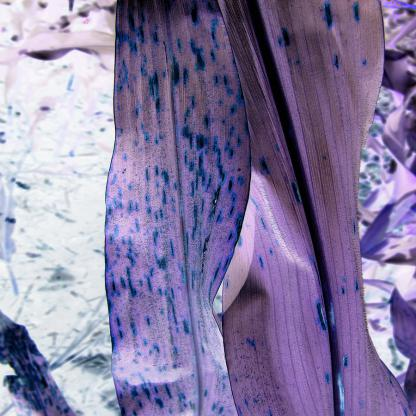corn leaf blight: (237, 5, 380, 415), (108, 1, 249, 416)
